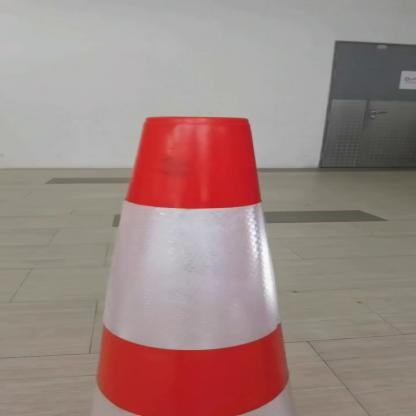cone: (60, 104, 336, 415)
